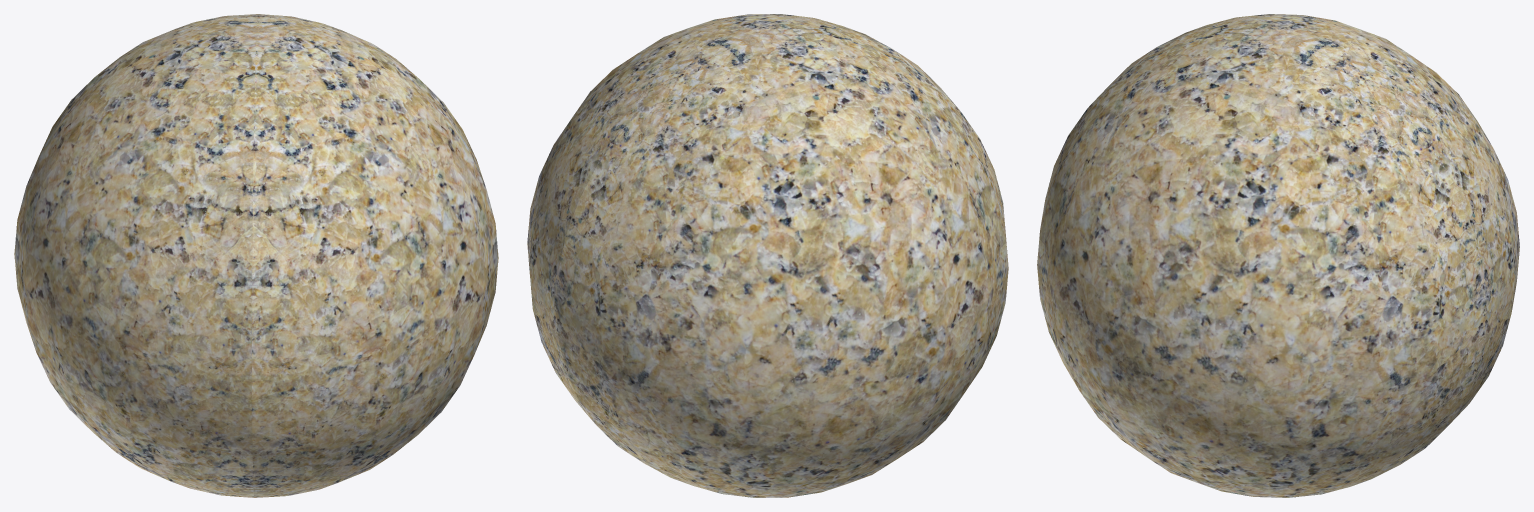
The model's file is Sun1_001.fbx.
3 views of the same model, side by side, from view 1: azimuth 30°, elevation 25°; view 2: azimuth 150°, elevation 25°; view 3: azimuth 270°, elevation 25° (orthographic).
Visible parts, largest first — view 1: Sun_1; view 2: Sun_1; view 3: Sun_1.
Part boxes in pixels (left/top/right/bottom): Sun_1: left=14, top=14, right=498, bottom=497; Sun_1: left=527, top=14, right=1008, bottom=497; Sun_1: left=1037, top=14, right=1519, bottom=497.
Bounding box in the file's own units: 162 × 163 × 162.
